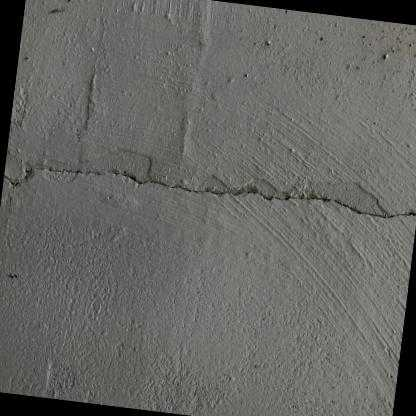crack: (2, 146, 416, 221)
